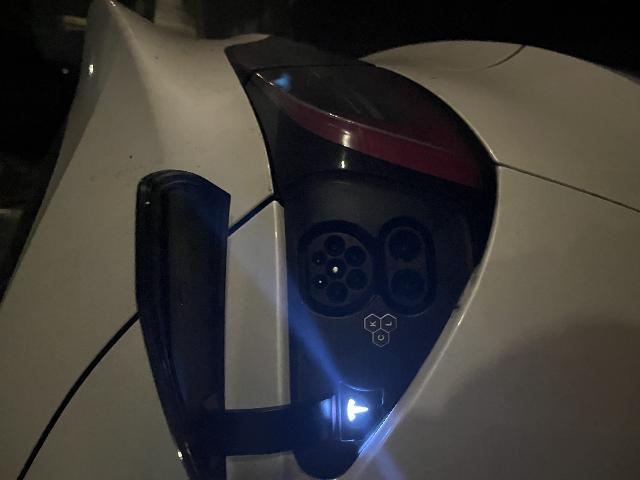inlet: (174, 308, 248, 373)
inlet-above-left: (191, 313, 205, 327)
inlet-above-right: (214, 311, 229, 327)
inlet-below-left: (189, 345, 211, 368)
inlet-below-right: (213, 344, 234, 366)
inlet-circle: (200, 325, 222, 347)
inlet-circle-left: (176, 326, 199, 348)
inlet-circle-right: (223, 324, 245, 345)
inlet-minus: (217, 388, 251, 421)
inlet-plus: (178, 391, 212, 425)
